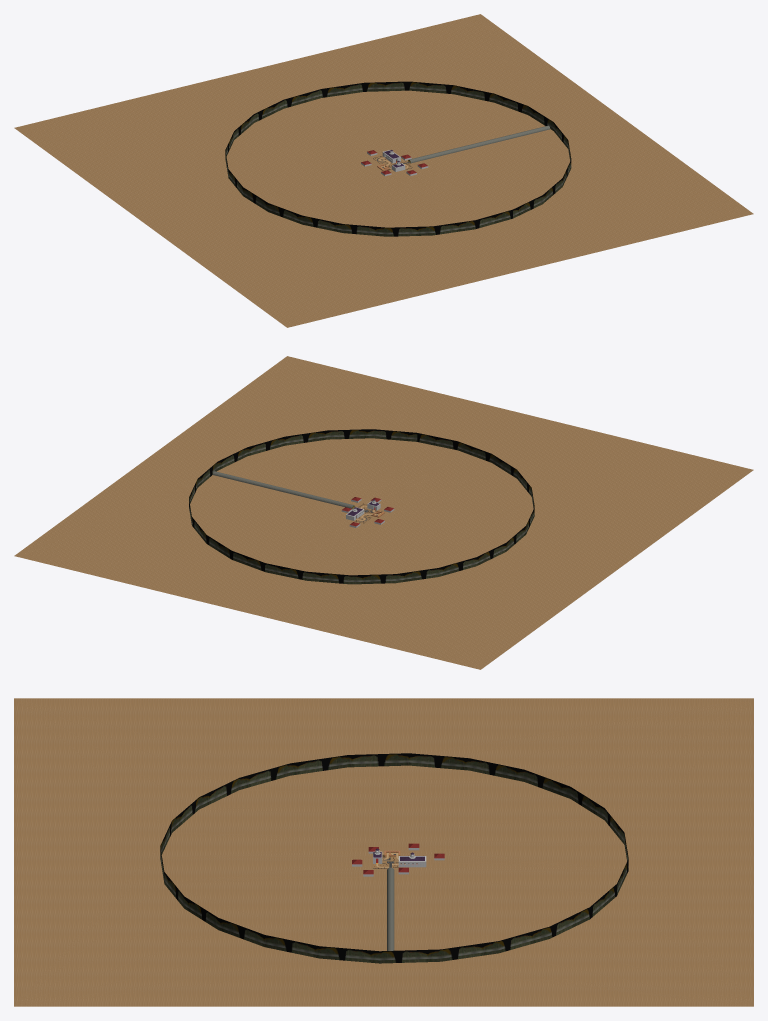
The picture shows the model from 3 angles, top to bottom: view 1: azimuth 30°, elevation 25°; view 2: azimuth 150°, elevation 25°; view 3: azimuth 270°, elevation 25°; orthographic projection. The views are drawn at different scales.
Visible parts, largest first — view 1: AutoSave_Old_Churches_For_ZPL_SKP__Offroad, AutoSave_Old_Churches_For_ZPL_SKP__Mountains, AutoSave_Old_Churches_For_ZPL_SKP__slipperymacs_mom_011; view 2: AutoSave_Old_Churches_For_ZPL_SKP__Offroad, AutoSave_Old_Churches_For_ZPL_SKP__Mountains, AutoSave_Old_Churches_For_ZPL_SKP__slipperymacs_mom_011; view 3: AutoSave_Old_Churches_For_ZPL_SKP__Offroad, AutoSave_Old_Churches_For_ZPL_SKP__Mountains, AutoSave_Old_Churches_For_ZPL_SKP__slipperymacs_mom_011, AutoSave_Old_Churches_For_ZPL_SKP__slipperymacs_mom_007.
Boxes of the visible parts, box(x1,y1,x2,y2) form: AutoSave_Old_Churches_For_ZPL_SKP__Offroad: box(14, 14, 753, 327); AutoSave_Old_Churches_For_ZPL_SKP__Mountains: box(225, 81, 571, 236); AutoSave_Old_Churches_For_ZPL_SKP__slipperymacs_mom_011: box(408, 125, 550, 163); AutoSave_Old_Churches_For_ZPL_SKP__Offroad: box(14, 356, 753, 669); AutoSave_Old_Churches_For_ZPL_SKP__Mountains: box(189, 429, 534, 584); AutoSave_Old_Churches_For_ZPL_SKP__slipperymacs_mom_011: box(212, 471, 354, 508); AutoSave_Old_Churches_For_ZPL_SKP__Offroad: box(14, 698, 753, 1006); AutoSave_Old_Churches_For_ZPL_SKP__Mountains: box(160, 753, 628, 963); AutoSave_Old_Churches_For_ZPL_SKP__slipperymacs_mom_011: box(387, 867, 394, 950); AutoSave_Old_Churches_For_ZPL_SKP__slipperymacs_mom_007: box(352, 848, 444, 876).
Size of the model in its own units: 1005152 by 19144 by 1019296.
25 materials, 25 textured.
